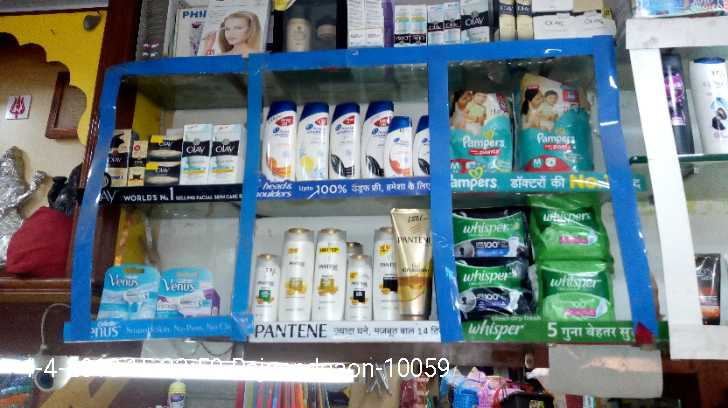venus: (158, 266, 218, 316), (101, 266, 158, 316)
